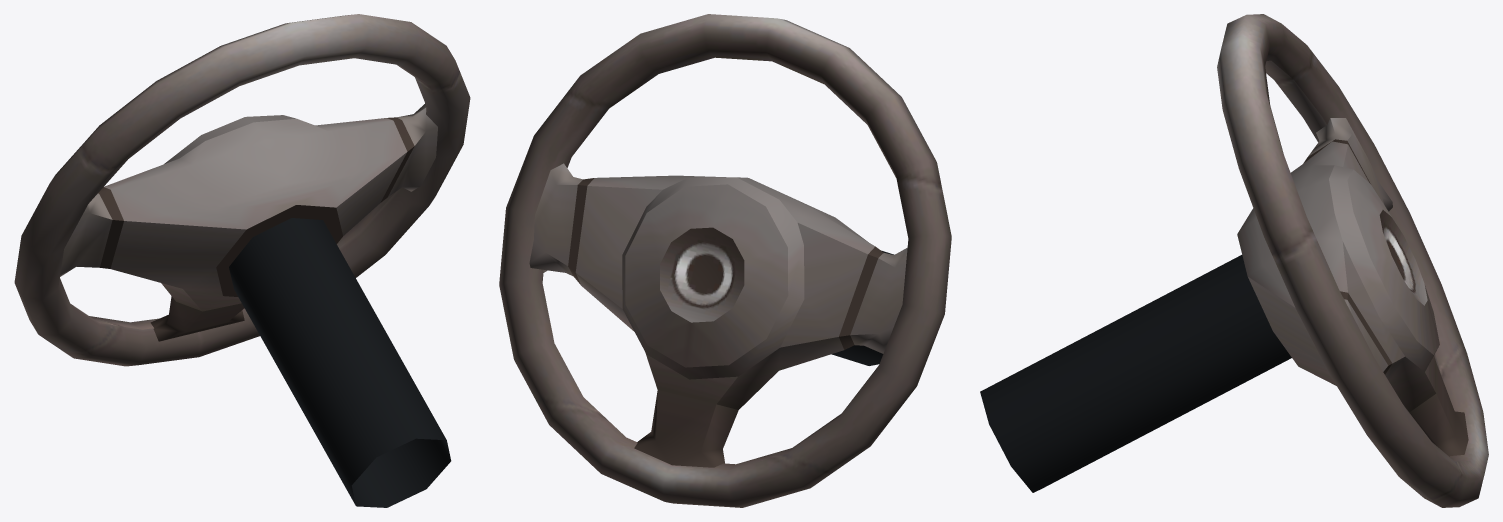
File: Volante.glb
3 renders of one model, left to right at view 1: azimuth 30°, elevation 25°; view 2: azimuth 150°, elevation 25°; view 3: azimuth 270°, elevation 25°, orthographic. The views are drawn at different scales.
Visible parts, largest first — view 1: polySurface6.1; view 2: polySurface6.1; view 3: polySurface6.1.
Boxes of the visible parts, <box> form: polySurface6.1: <box>14,14,470,507</box>; polySurface6.1: <box>499,14,951,507</box>; polySurface6.1: <box>980,14,1488,507</box>.
Bounding box in the file's own units: 0.00314 × 0.0029 × 0.00297.
2 materials, 2 textured.
